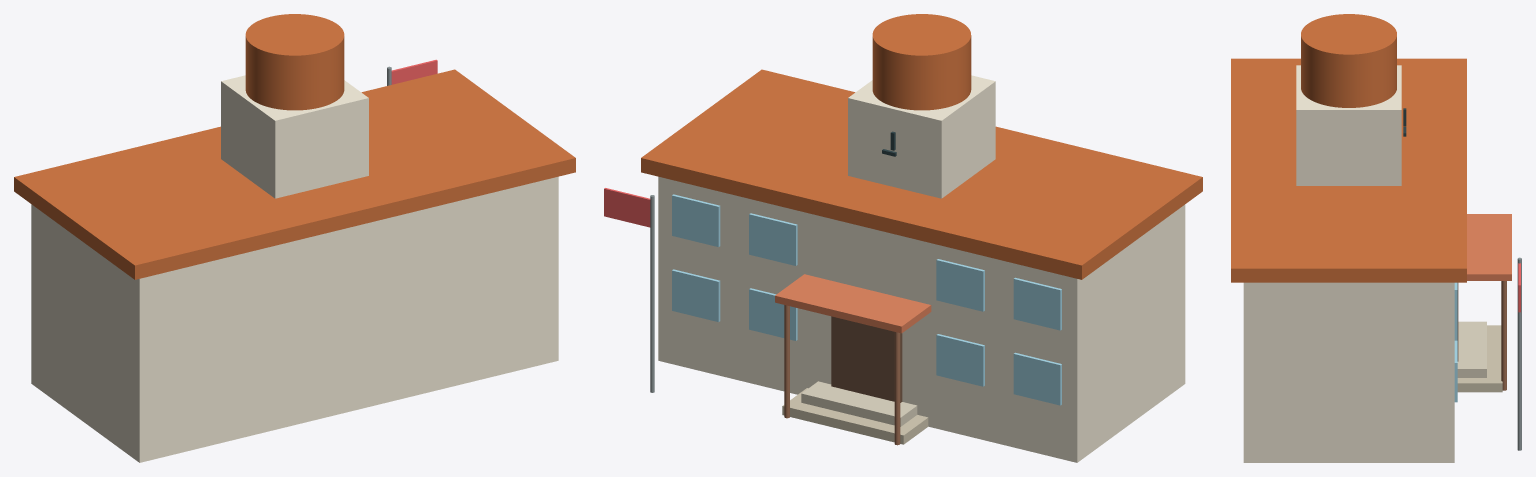
The model's file is school.glb.
3 renders of one model, left to right at view 1: azimuth 30°, elevation 25°; view 2: azimuth 150°, elevation 25°; view 3: azimuth 270°, elevation 25°, orthographic. The views are drawn at different scales.
Visible parts, largest first — view 1: main, roofslab, tower, turret, flag; view 2: main, roofslab, tower, turret, canopy, door, step2, step1, winA0, winB3, winA1, winA3 (+8 smaller); view 3: roofslab, main, tower, turret, canopy, step2, step1, flagpole, postR.
Part boxes in pixels (x1,y1,x2,y2): main: (31, 176, 558, 462); roofslab: (14, 69, 575, 279); tower: (221, 75, 368, 198); turret: (245, 14, 344, 110); flag: (391, 59, 437, 84); main: (658, 176, 1185, 462); roofslab: (641, 69, 1202, 279); tower: (848, 75, 995, 198); turret: (872, 14, 971, 110); canopy: (775, 274, 931, 333); door: (831, 316, 902, 402); step2: (801, 381, 917, 426); step1: (782, 388, 928, 444); winA0: (1013, 352, 1061, 405); winB3: (672, 194, 720, 247); winA1: (936, 334, 984, 386); winA3: (672, 269, 720, 322); roofslab: (1231, 58, 1466, 282); main: (1243, 282, 1454, 462); tower: (1296, 65, 1401, 185); turret: (1301, 14, 1396, 107); canopy: (1467, 214, 1511, 280); step2: (1457, 321, 1486, 377); step1: (1457, 325, 1502, 392); flagpole: (1517, 257, 1521, 450); postR: (1501, 281, 1506, 390).
Size of the model in its own units: 8.17 by 5.85 by 4.68.
